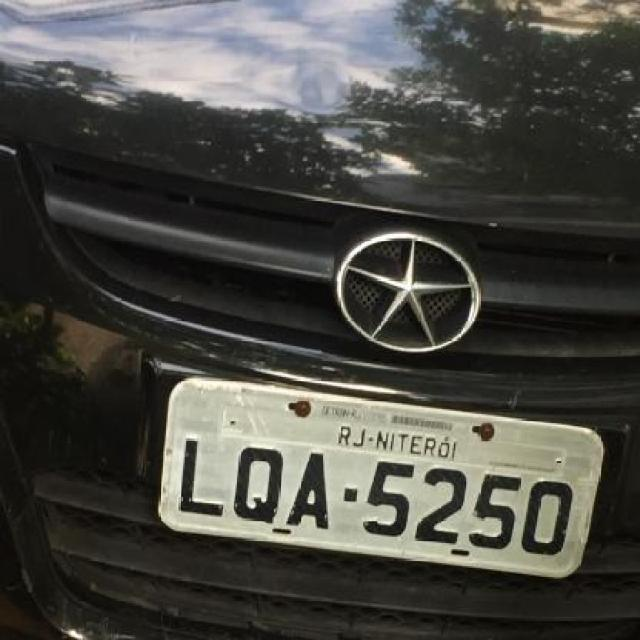old_plate: (152, 369, 613, 589)
